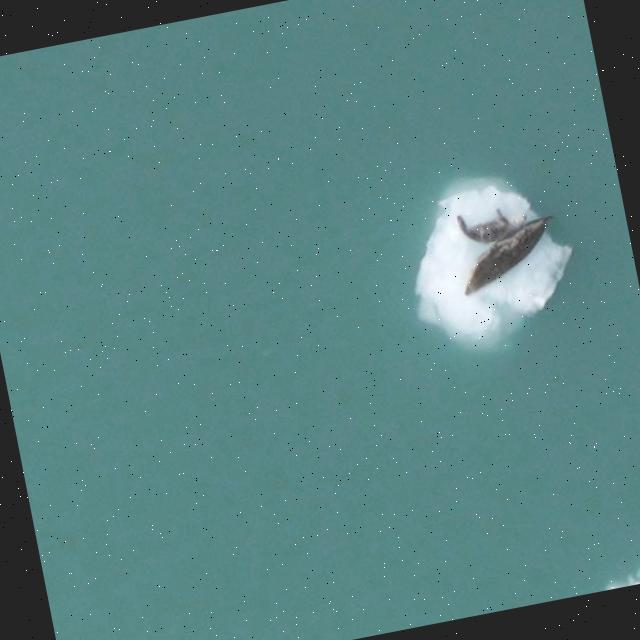seal: (453, 202, 558, 306), (458, 206, 526, 247)
